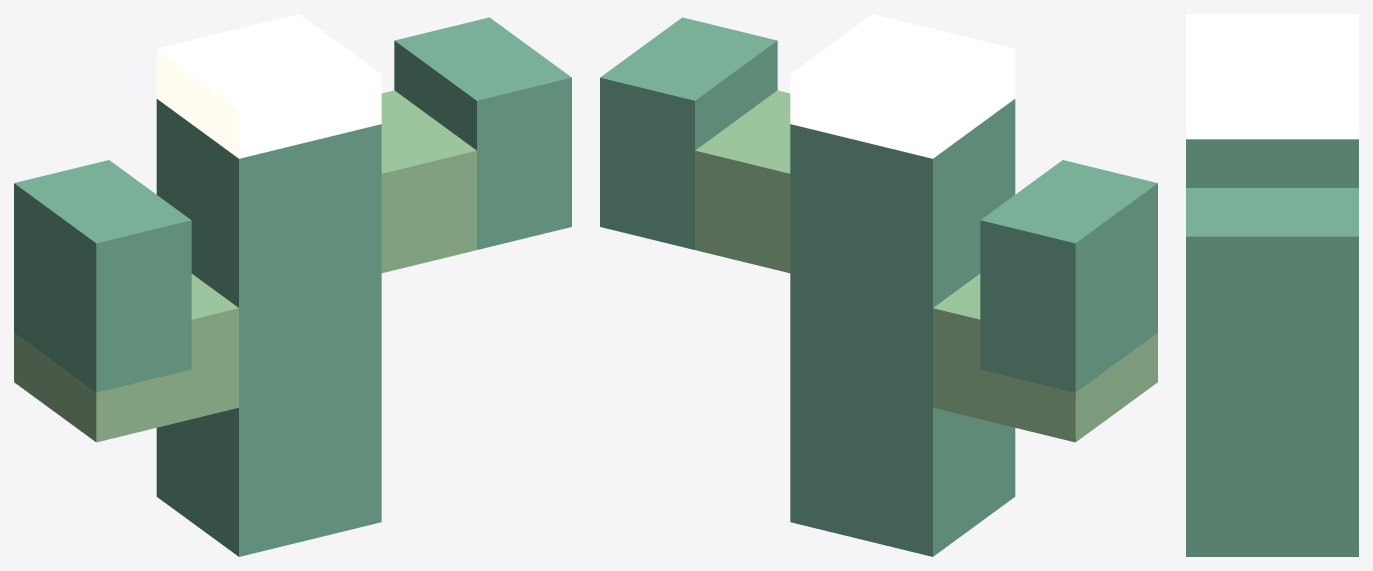
The model's file is cactus.glb.
The picture shows the model from 3 angles, left to right: view 1: azimuth 30°, elevation 25°; view 2: azimuth 150°, elevation 25°; view 3: azimuth 270°, elevation 25°; orthographic projection. The views are drawn at different scales.
Parts seen in each view (by area): view 1: CactusVariant0Surface; view 2: CactusVariant0Surface; view 3: CactusVariant0Surface.
Part boxes in pixels (left/top/right/bottom): CactusVariant0Surface: left=14, top=14, right=571, bottom=556; CactusVariant0Surface: left=600, top=14, right=1157, bottom=556; CactusVariant0Surface: left=1186, top=14, right=1358, bottom=556.
Size of the model in its own units: 2.5 by 2.25 by 0.75.
